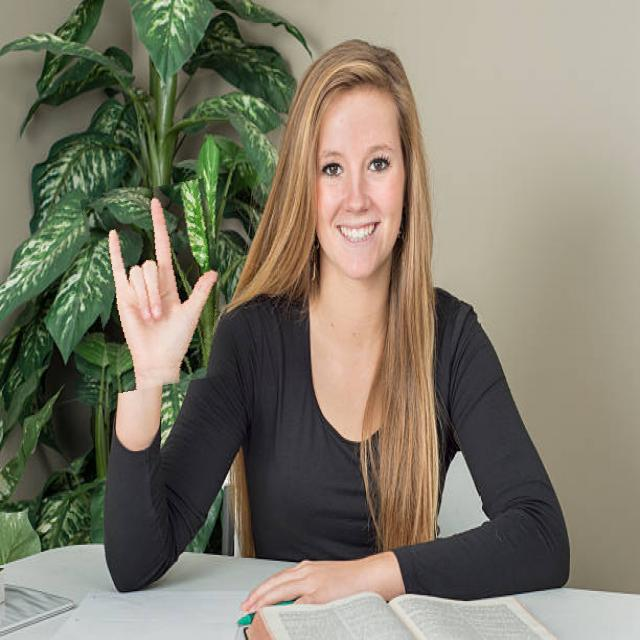I Love You: (88, 183, 230, 388)
